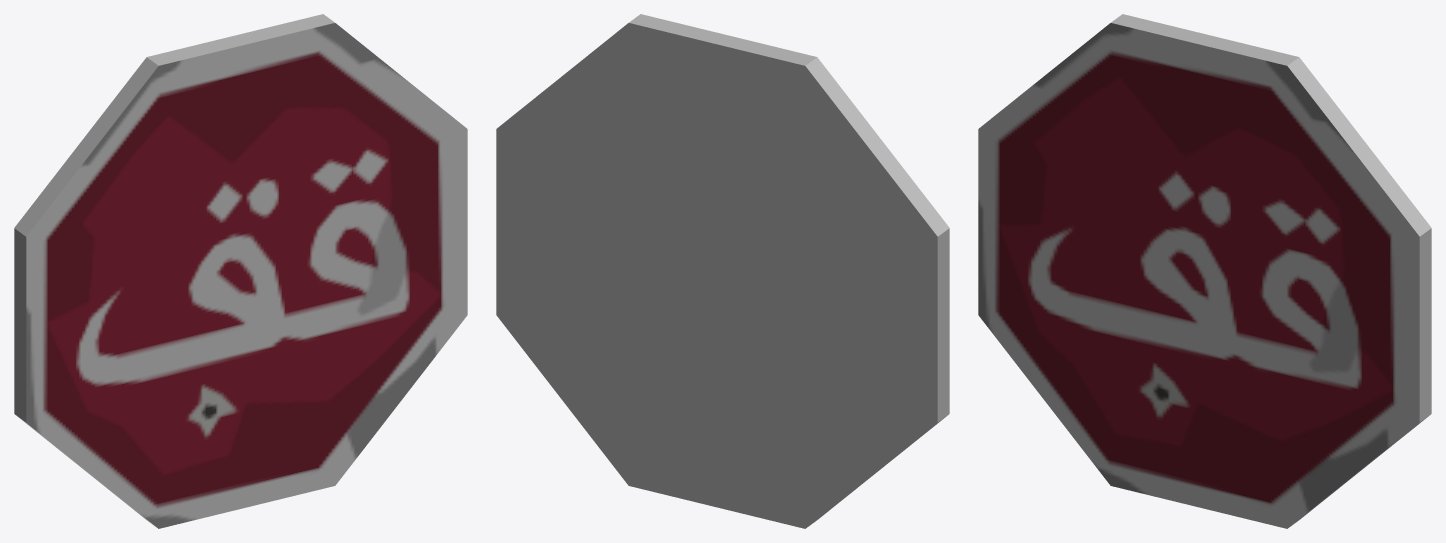
The model's file is SM_Prop_Sign_Safety_01.glb.
The picture shows the model from 3 angles, left to right: view 1: azimuth 30°, elevation 25°; view 2: azimuth 150°, elevation 25°; view 3: azimuth 330°, elevation 25°; orthographic projection.
Parts seen in each view (by area): view 1: SM_Prop_Sign_Safety_01; view 2: SM_Prop_Sign_Safety_01; view 3: SM_Prop_Sign_Safety_01.
Part boxes in pixels (bbox=[...]): SM_Prop_Sign_Safety_01: bbox=[14, 14, 467, 528]; SM_Prop_Sign_Safety_01: bbox=[496, 14, 949, 528]; SM_Prop_Sign_Safety_01: bbox=[978, 14, 1431, 528].
Bounding box in the file's own units: 0.9428 × 0.9448 × 0.0445.
Materials: 1 (1 with a texture image).
